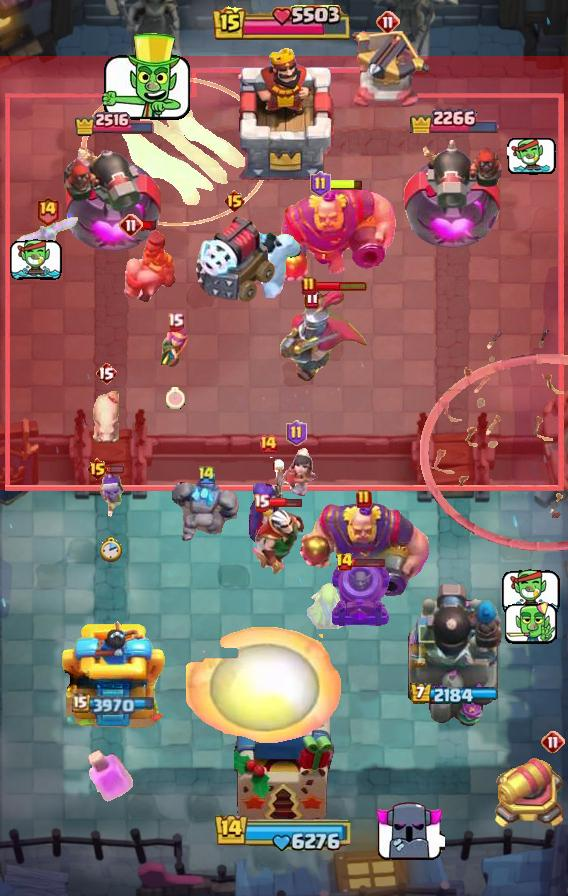axe: (245, 457, 291, 545)
barbarian: (13, 215, 81, 247)
cannon: (160, 326, 190, 370)
clock: (214, 812, 354, 852), (213, 5, 355, 43)
elite-barbarian: (119, 229, 179, 303)
elixir: (100, 536, 123, 563), (166, 387, 185, 409)
emote: (316, 280, 369, 292), (328, 177, 364, 190), (268, 497, 304, 509), (350, 556, 385, 567), (106, 465, 125, 476), (142, 220, 159, 231)
giant: (89, 385, 123, 447)
goblin: (96, 473, 126, 519)
goblin-cage: (328, 559, 392, 629)
golem: (191, 213, 277, 303)
ice-wizard: (81, 77, 271, 227)
king-tower: (229, 43, 339, 181), (234, 700, 334, 826)
knight-evolution: (88, 749, 134, 802)
lava-pup: (347, 31, 429, 111)
lightning: (295, 500, 433, 596), (274, 185, 397, 285)
queen-tower: (60, 617, 168, 731)
rage: (238, 228, 302, 298)
royal-recruit: (490, 755, 568, 831)
selected: (407, 102, 499, 133), (73, 111, 155, 138), (410, 683, 499, 706), (71, 693, 156, 715)
skeleton: (97, 32, 195, 126), (373, 800, 445, 864), (503, 568, 562, 615), (505, 598, 560, 646), (9, 239, 62, 281), (508, 136, 557, 175)
skeleton-barrel: (420, 331, 568, 554)
skeleton-dragon: (271, 447, 321, 499)
skeleton-king: (244, 508, 308, 576)
text: (36, 195, 60, 225), (376, 10, 400, 34), (119, 213, 143, 237), (541, 730, 565, 754), (223, 189, 246, 213), (86, 457, 109, 481), (309, 171, 330, 197), (286, 420, 307, 446), (95, 361, 117, 385), (197, 463, 217, 485), (258, 434, 278, 454), (335, 552, 354, 572), (167, 313, 185, 331), (301, 276, 317, 296), (356, 489, 372, 509), (254, 493, 271, 511)
tower-bar: (402, 579, 504, 731), (401, 132, 508, 256), (63, 136, 165, 256)
valkyrie: (186, 624, 342, 746)
valkyrie-evolution: (171, 476, 243, 544)
wall-breaker-evolution: (278, 289, 370, 383)
zap: (303, 581, 353, 629)
